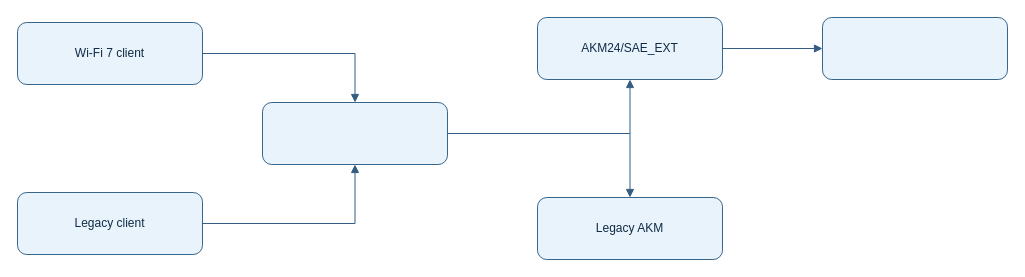
This 1025x277 diagram has some shape labels left out. Here are the shapes that lost their labels. From the top down, the box of each, then its label:
(822, 16, 1008, 80): Radio 320 MHz
(262, 102, 448, 164): SSID SAE transition
